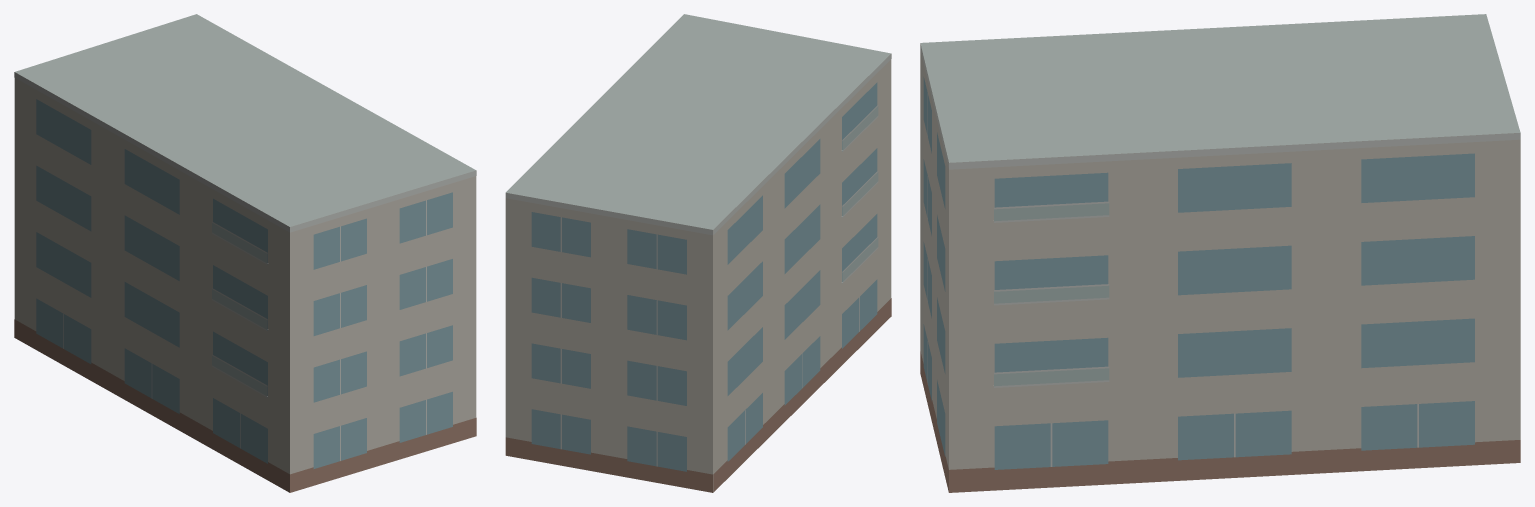
The model's file is survey-upis-32663621.glb.
3 views of the same model, side by side, from view 1: azimuth 30°, elevation 25°; view 2: azimuth 150°, elevation 25°; view 3: azimuth 270°, elevation 25° (orthographic). The views are drawn at different scales.
Parts seen in each view (by area): view 1: survey-upis-32663621.tmp; view 2: survey-upis-32663621.tmp; view 3: survey-upis-32663621.tmp.
Boxes of the visible parts, bbox=[...] form: survey-upis-32663621.tmp: bbox=[14, 14, 476, 492]; survey-upis-32663621.tmp: bbox=[505, 14, 891, 492]; survey-upis-32663621.tmp: bbox=[920, 14, 1520, 492].
Bounding box in the file's own units: 11.32 × 11.7 × 19.3.
